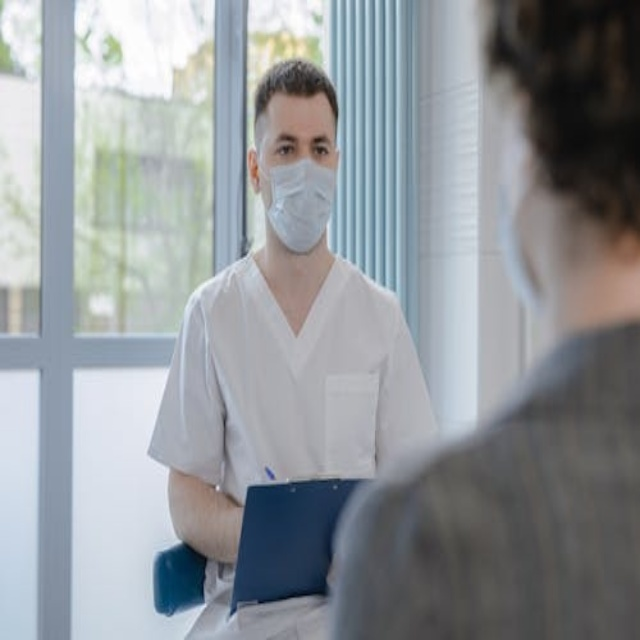Mascara: (255, 161, 338, 254)
Sin_gafas: (266, 121, 338, 171)
